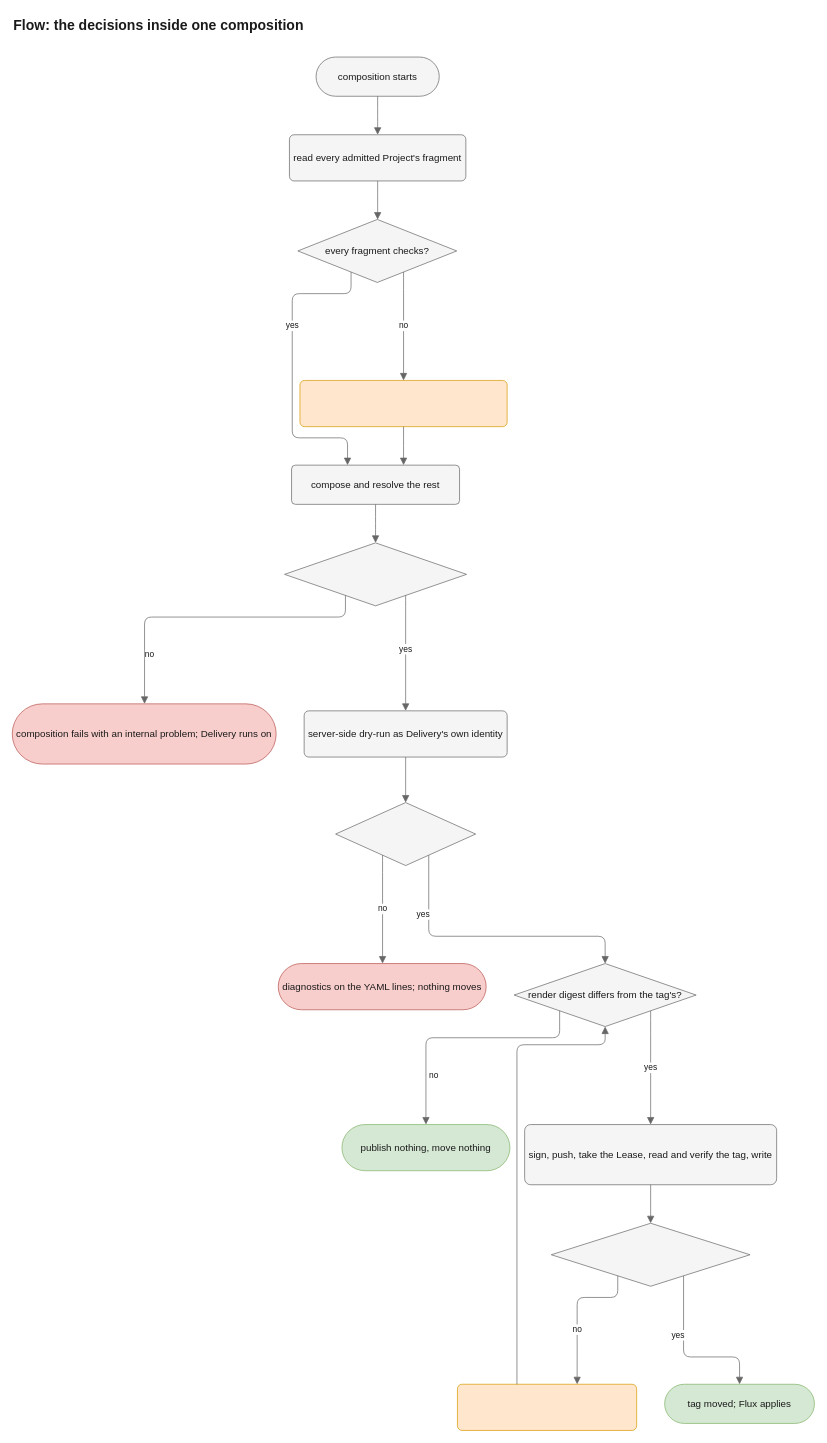
This 827x1443 diagram has some shape labels left out. The centre of each missing label's shape, as x and y in pixels:
"dry-run clean?" belongs at pixel 405 834.
"isolate the refused fragments, record Refused" belongs at pixel 403 403.
"lost a race: stop, observe, decide again" belongs at pixel 547 1407.
"the tag read again shows what was written?" belongs at pixel 650 1254.
"within budget and deadline, no panic?" belongs at pixel 375 574.
